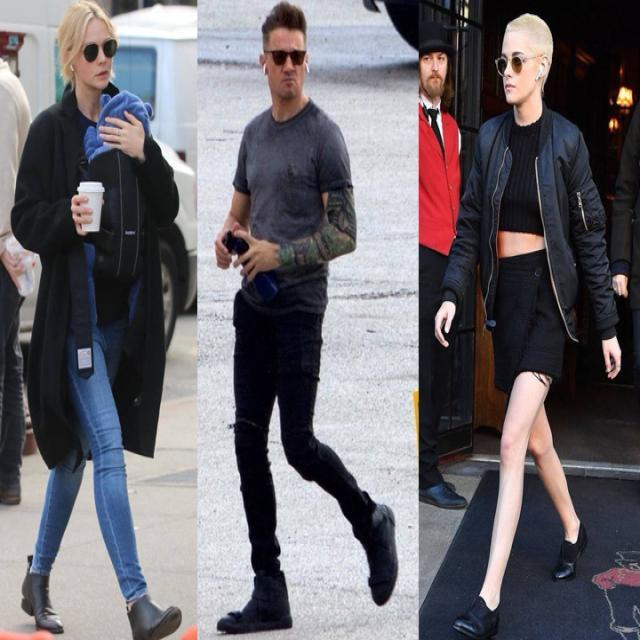earphone: (532, 68, 560, 88), (304, 58, 315, 84), (68, 62, 82, 82), (261, 58, 269, 84)
